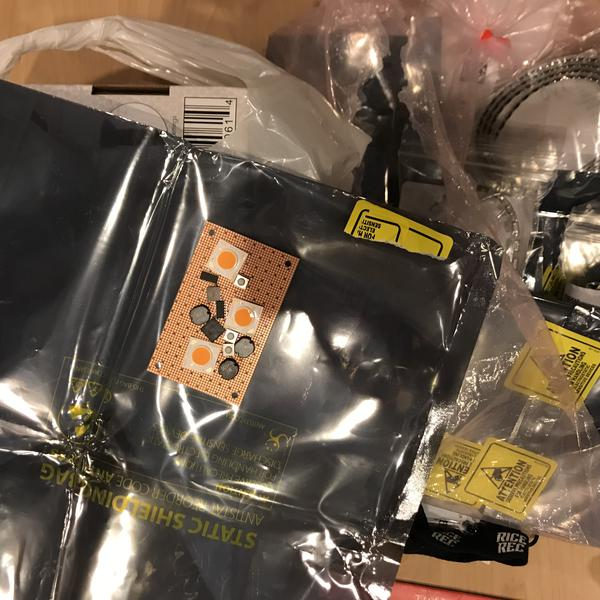board: (145, 221, 301, 409)
